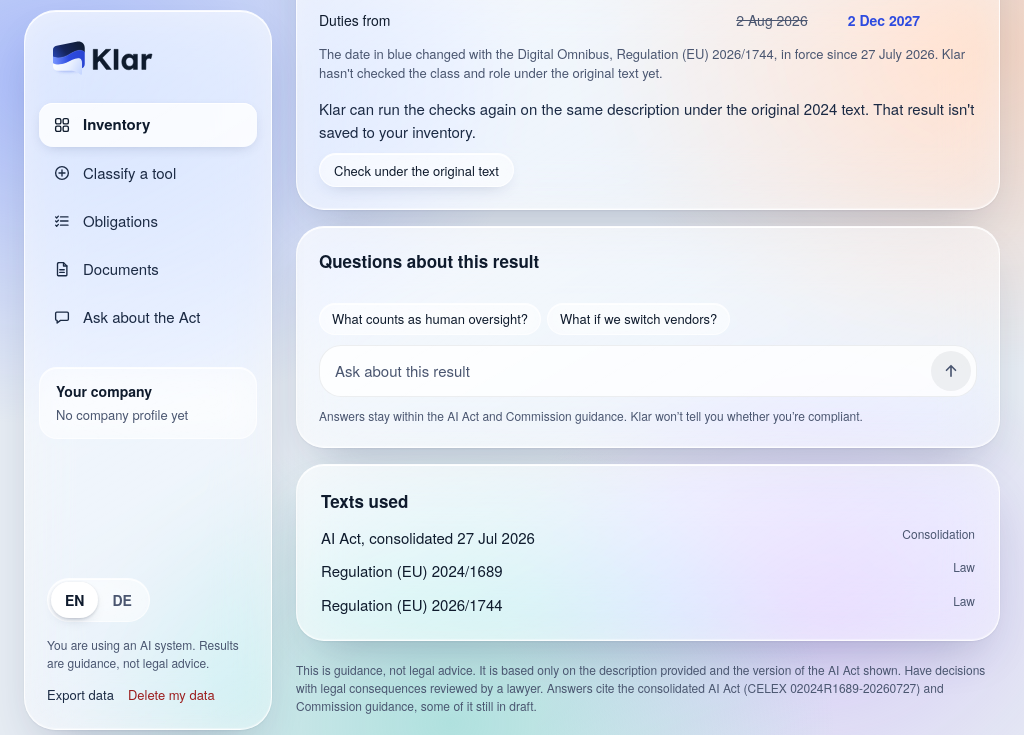
Scenario: Questions about this result › has no axe violations in the reviewer view with an answer
(page scrolled)
Click the text box at point(629, 371), box [335,351,923,391]
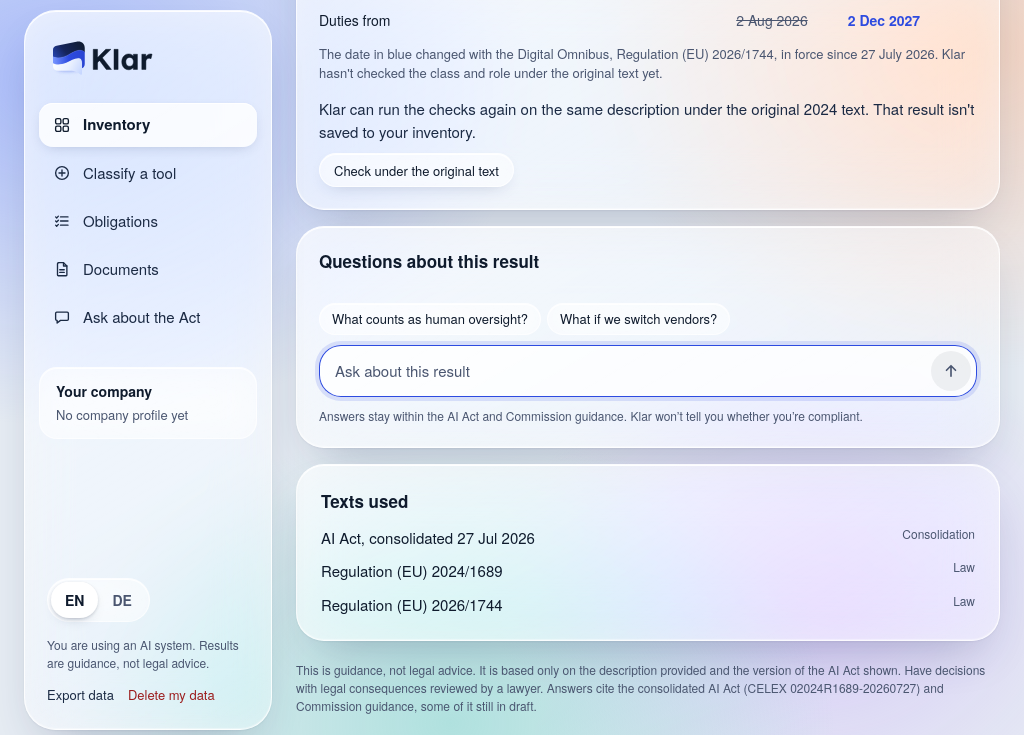
Type keys "Why?"
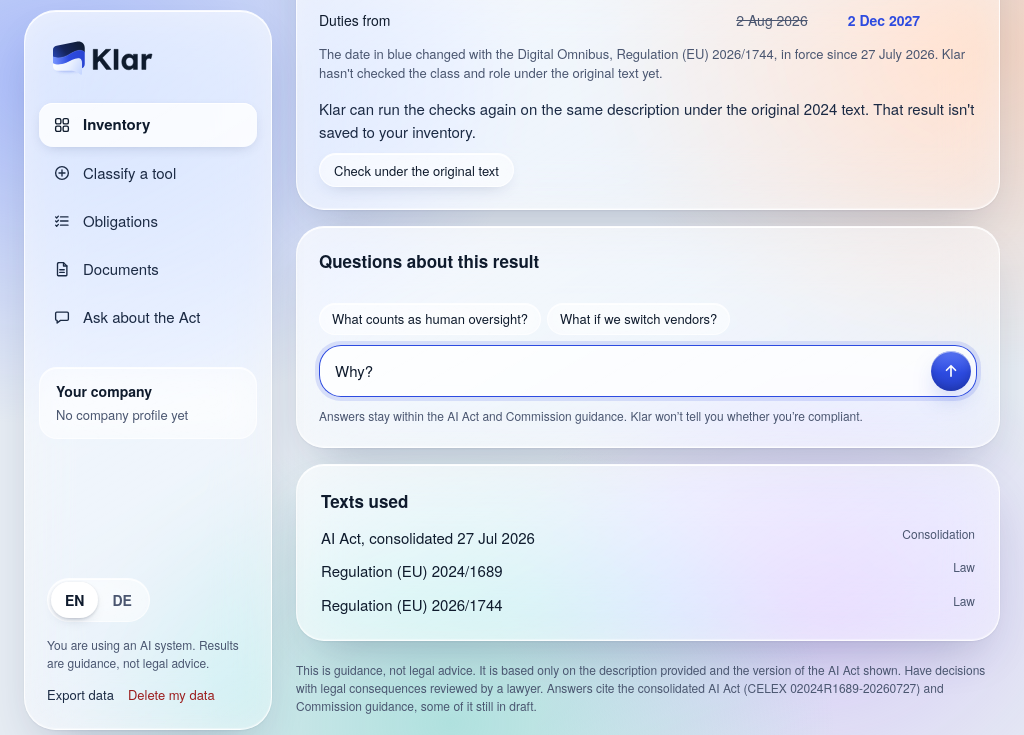
Press Enter
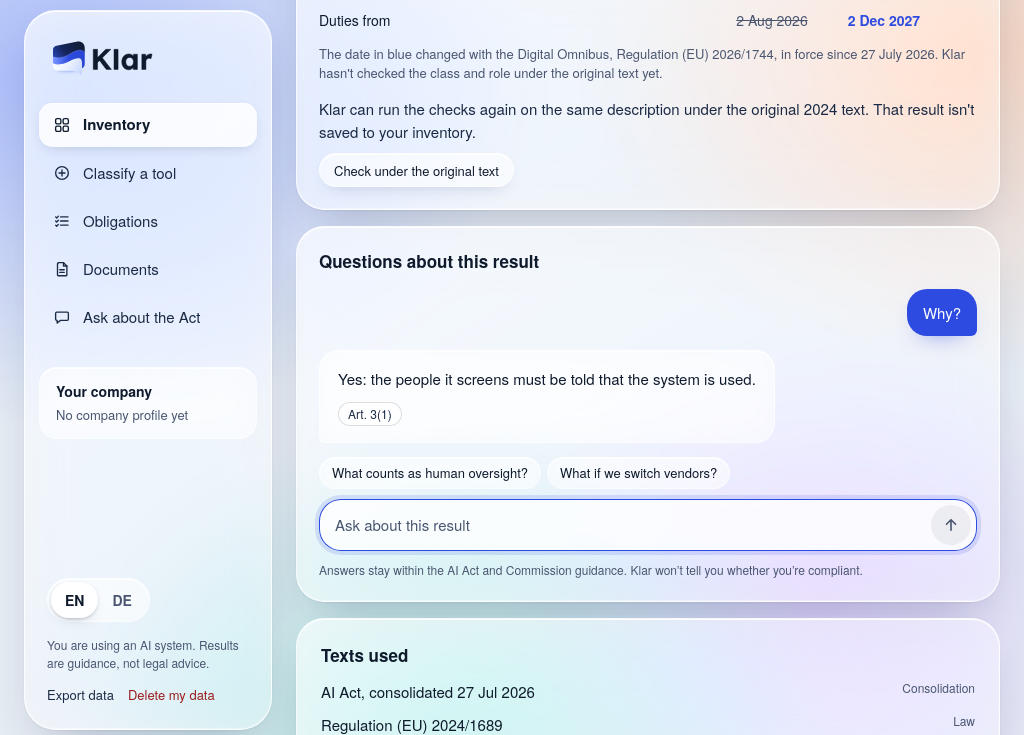
Check: the text "must be told" is shown, box [338,368,756,389]
